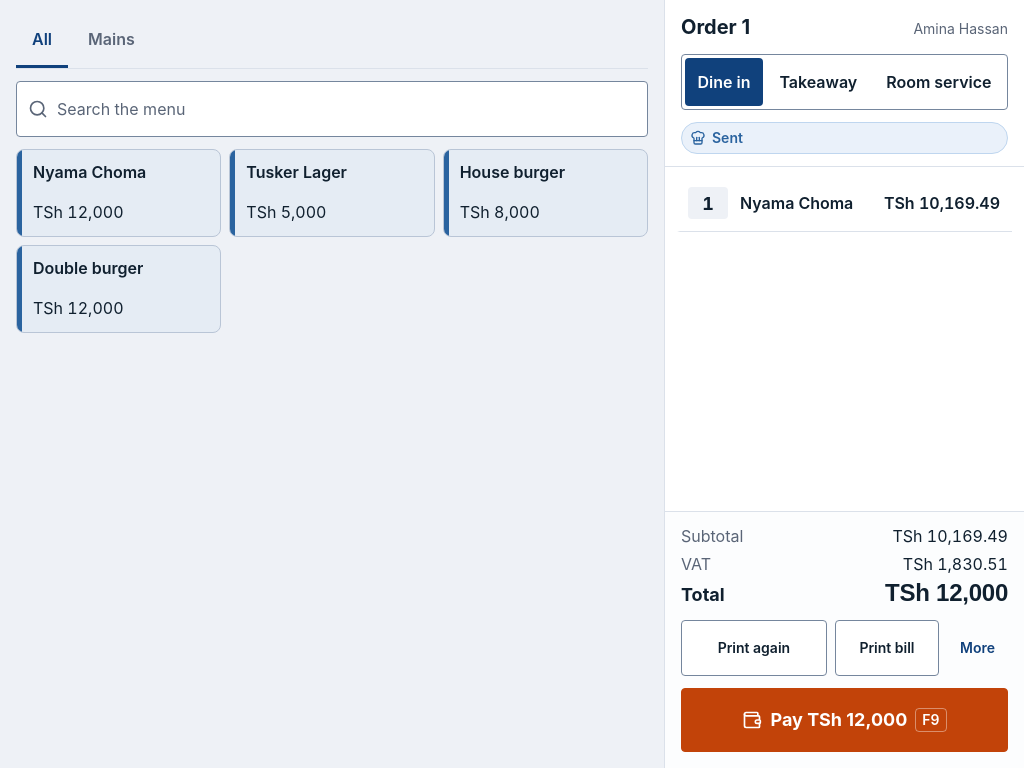
Test case: NewOrder › Print order with nothing new prints the last papers again and says so
The image size is (1024, 768).
Click the button with test id "send-order" at (754, 648), box [681,620,827,676]
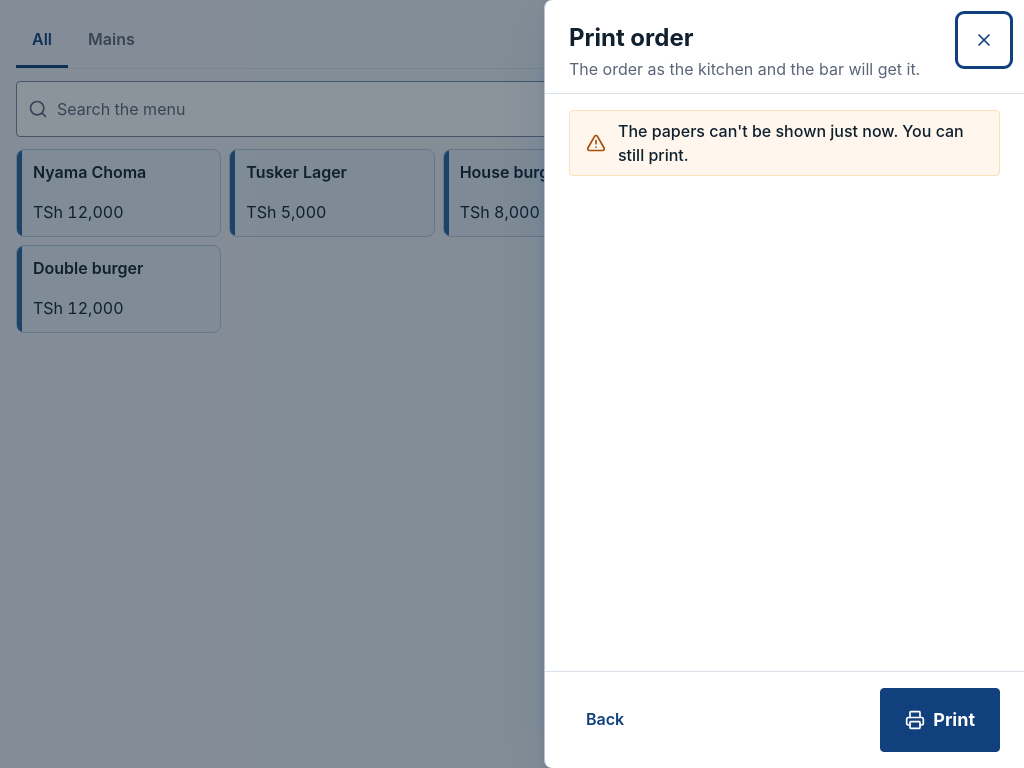
Click the button with test id "paper-print" at (940, 720), box [880,688,1000,752]
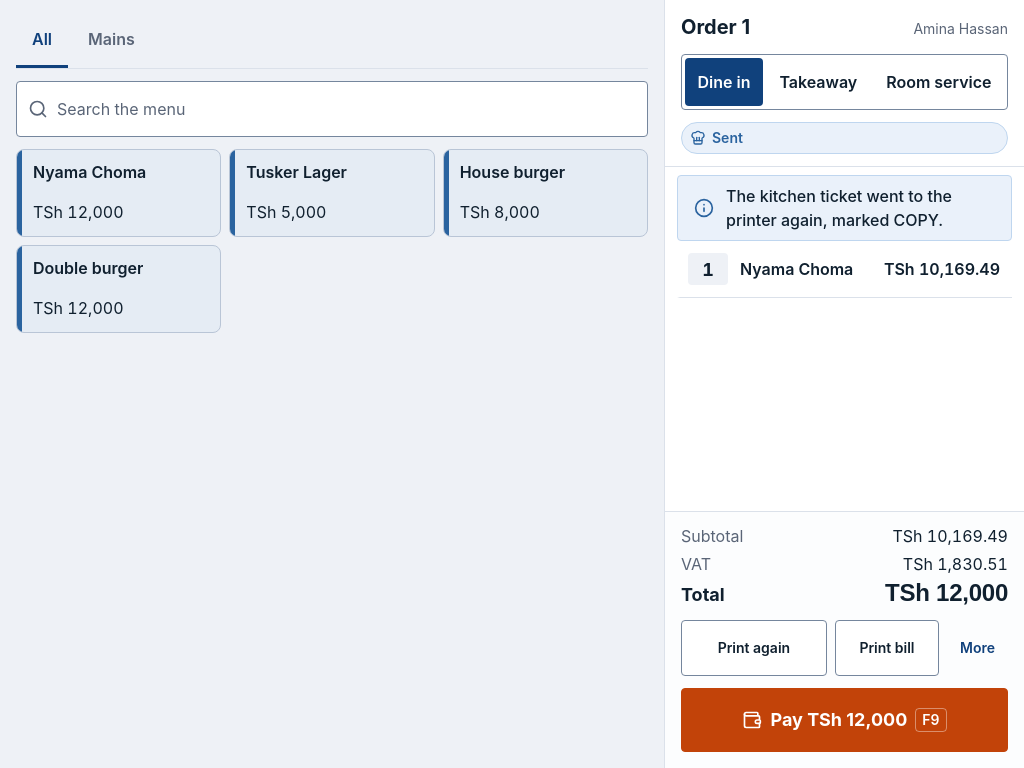
Expected: the text "The kitchen ticket went to the printer again, marked COPY." is shown, [726,186,952,230]
